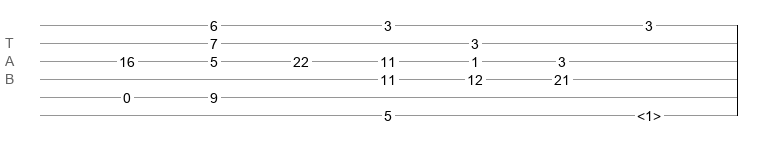0: (123, 90, 131, 100)
1: (471, 54, 479, 64)
11: (380, 54, 396, 64), (380, 72, 396, 82)
12: (467, 72, 483, 82)
16: (119, 54, 135, 64)
21: (554, 72, 570, 82)
22: (293, 54, 309, 64)
3: (384, 18, 392, 28), (471, 36, 479, 46), (558, 54, 566, 64), (645, 18, 653, 28)
5: (210, 54, 218, 64), (384, 108, 392, 118)
6: (210, 18, 218, 28)
7: (210, 36, 218, 46)
9: (210, 90, 218, 100)
harmonic: (637, 108, 661, 118)
